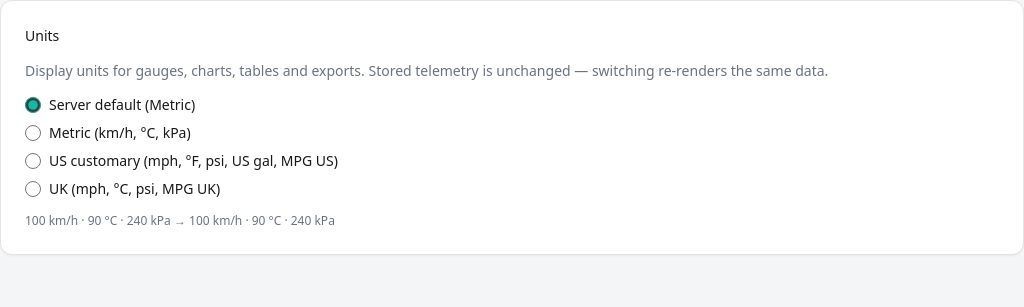
Test: UnitsCard › saves US customary and updates the preview to °F/psi
What coordinates should you click on to do the following:
click the radio button labelled "US customary (mph, °F, psi, US gal, MPG US)"
I would click on:
 (33, 160)
Its box is [25,152,41,168].
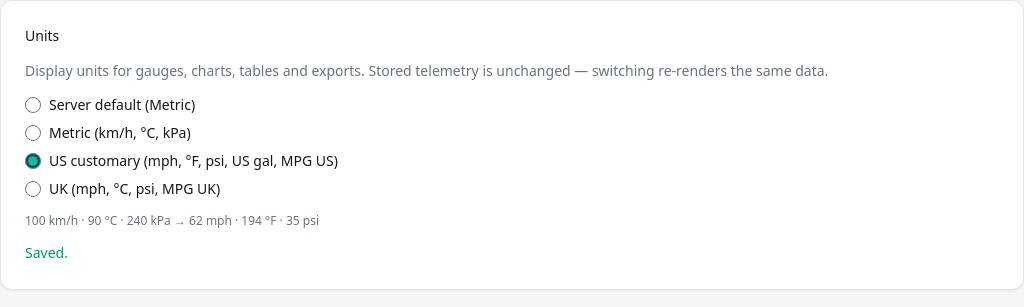
expect the text with test id "units-preview" reads "100 km/h · 90 °C · 240 kPa → 62 mph · 194 °F · 35 psi": met, box [25,212,319,228]
expect the text "Saved." is shown: met, box [25,243,68,262]
